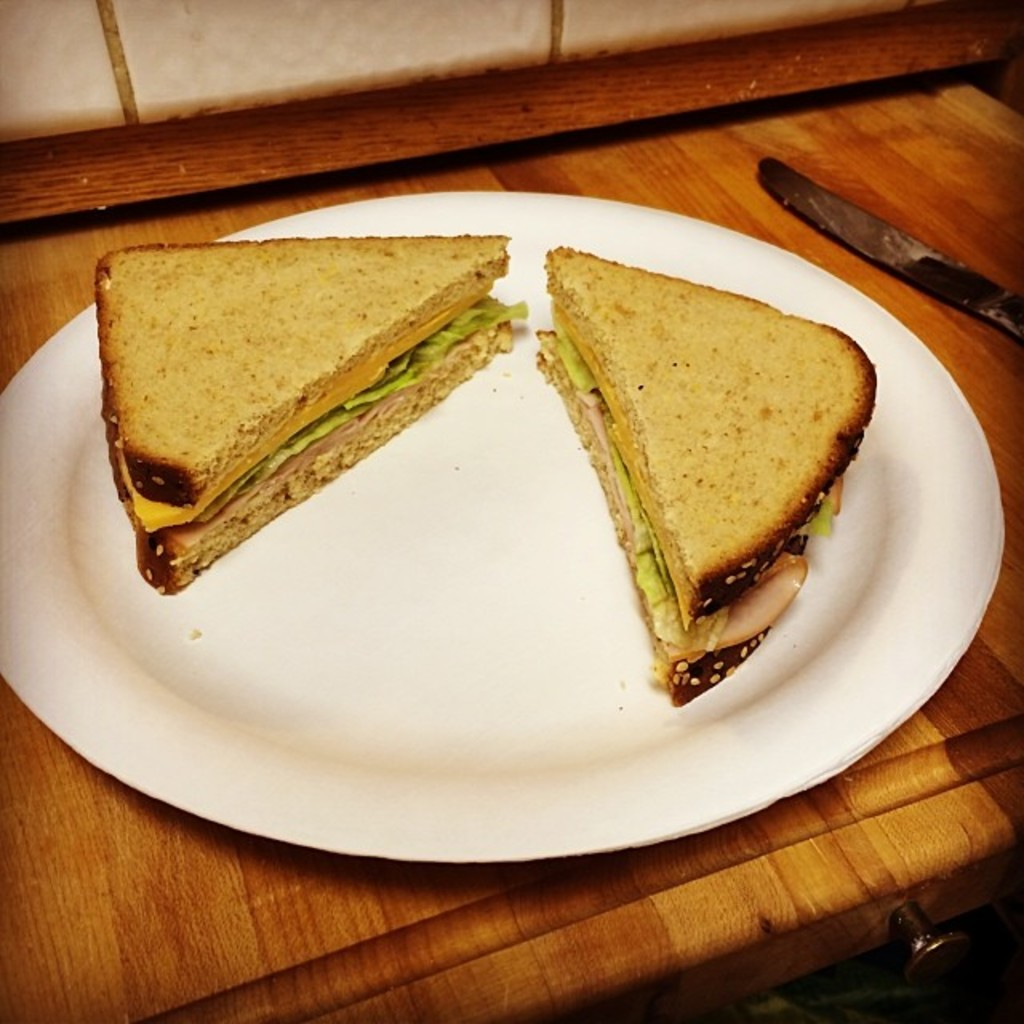sandwich: (88, 229, 528, 595), (538, 242, 880, 698)
